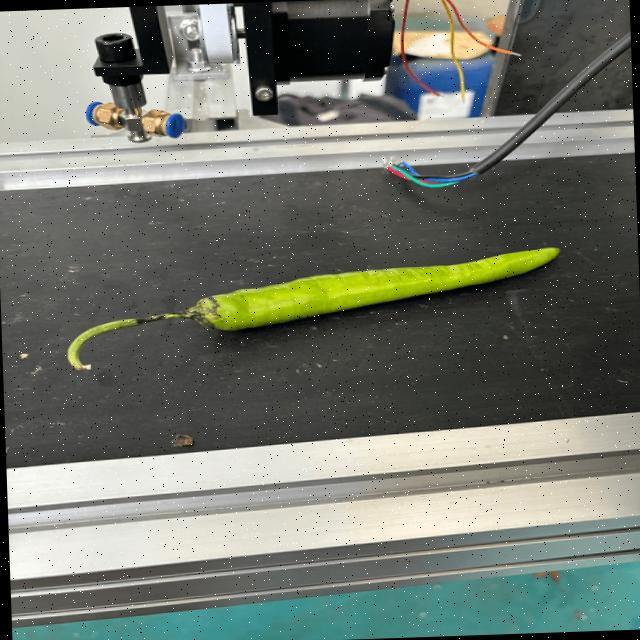chili: (189, 246, 562, 332)
